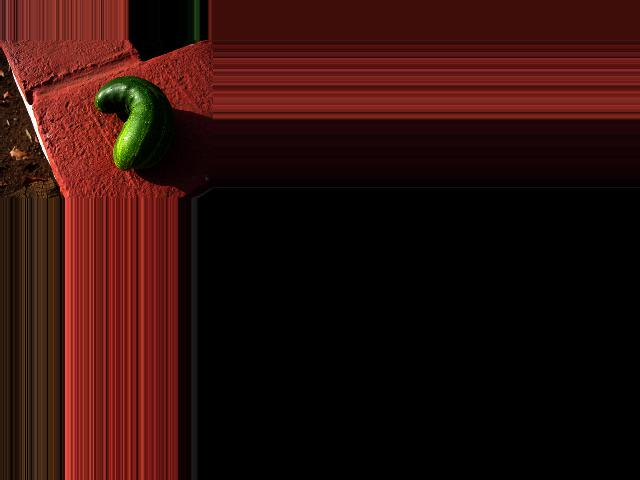cucumber: (93, 76, 173, 170)
